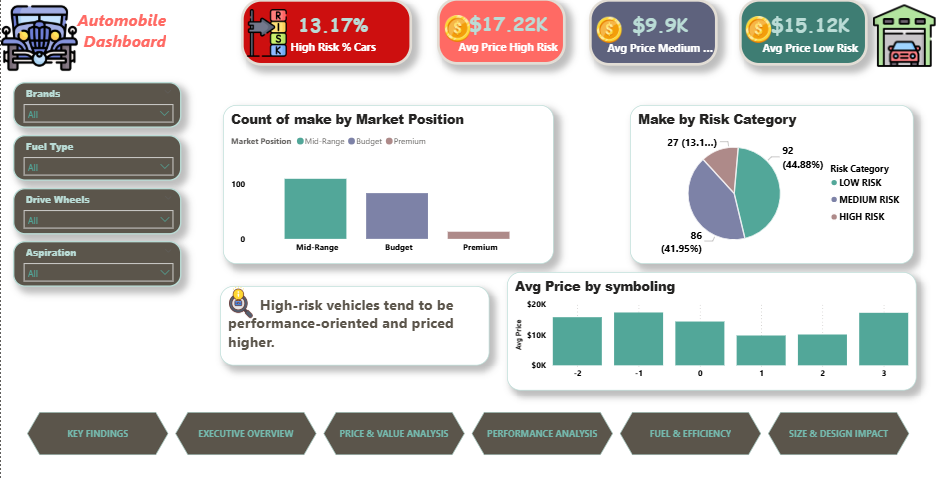

The dashboard page shown, as its layout file describes it:
{"tool":"powerbi","page":{"name":"RISK & MARKET POSITIONING","canvas":[1400,720],"ordinal":7},"visuals":[{"type":"card","fields":{"Values":["automobile_data.Avg Price High Risk"]},"box":[648,-0.8,191,99],"z":0},{"type":"image","box":[657.9,24,40,40],"z":1000},{"type":"slicer","fields":{"Values":["automobile_data.make"]},"box":[18.1,122.9,249.6,68],"z":2000},{"type":"slicer","fields":{"Values":["automobile_data.body-style"]},"box":[18.1,202.1,250,68],"z":3000},{"type":"slicer","fields":{"Values":["automobile_data.drive-wheels"]},"box":[18.1,280.9,250.2,68.8],"z":4000},{"type":"slicer","fields":{"Values":["automobile_data.aspiration"]},"box":[18.1,359,250.2,67.8],"z":5000},{"type":"textbox","box":[0,9.4,250.2,81.3],"z":6000},{"type":"image","box":[0,0,113.6,115.9],"z":7000},{"type":"image","box":[1295.1,3.4,93.5,102.6],"z":8000},{"type":"card","fields":{"Values":["automobile_data.Avg Price Medium Risk"]},"box":[873.2,-0.7,191,99.4],"z":9000},{"type":"image","box":[882.6,25.3,39,40.2],"z":10000},{"type":"card","fields":{"Values":["automobile_data.Avg Price Low Risk"]},"box":[1095.1,0.3,191,99],"z":11000},{"type":"image","box":[1105,25.1,40,40],"z":12000},{"type":"card","fields":{"Values":["automobile_data.High Risk % Cars"]},"box":[356.9,0,253.5,98.5],"z":13000},{"type":"image","box":[356.9,14.5,77.5,71],"z":14000},{"type":"columnChart","title":"Count of make by Market Position ","fields":{"Category":["automobile_data.Market Position"],"Y":["CountNonNull(automobile_data.make)"],"Series":["automobile_data.Market Position"]},"box":[329.4,156.6,490.9,235.8],"z":15000},{"type":"pieChart","title":"Make by Risk Category","fields":{"Category":["automobile_data.Risk Category"],"Y":["CountNonNull(automobile_data.make)"]},"box":[933.3,156.6,421.5,235.8],"z":16000},{"type":"columnChart","fields":{"Category":["automobile_data.symboling"],"Y":["automobile_data.Avg Price"]},"box":[751.3,404.7,607.7,175.6],"z":17000},{"type":"textbox","box":[324.8,425.7,399.8,117.7],"z":18000},{"type":"image","box":[329.9,425.7,53,47.9],"z":19000},{"type":"pageNavigator","box":[38.8,613.3,1315.9,64.7],"z":20000}]}

Visuals, with their boxes in screenshot pixels (x1, y1, x2, y2), scaled from the page's 1400x720 canvas onto the 941x480 screenshot:
card - automobile_data.Avg Price High Risk: {"x1": 436, "y1": 0, "x2": 564, "y2": 65}
image: {"x1": 442, "y1": 16, "x2": 469, "y2": 43}
slicer - automobile_data.make: {"x1": 12, "y1": 82, "x2": 180, "y2": 127}
slicer - automobile_data.body-style: {"x1": 12, "y1": 135, "x2": 180, "y2": 180}
slicer - automobile_data.drive-wheels: {"x1": 12, "y1": 187, "x2": 180, "y2": 233}
slicer - automobile_data.aspiration: {"x1": 12, "y1": 239, "x2": 180, "y2": 285}
textbox: {"x1": 0, "y1": 6, "x2": 168, "y2": 60}
image: {"x1": 0, "y1": 0, "x2": 76, "y2": 77}
image: {"x1": 870, "y1": 2, "x2": 933, "y2": 71}
card - automobile_data.Avg Price Medium Risk: {"x1": 587, "y1": 0, "x2": 715, "y2": 66}
image: {"x1": 593, "y1": 17, "x2": 619, "y2": 44}
card - automobile_data.Avg Price Low Risk: {"x1": 736, "y1": 0, "x2": 864, "y2": 66}
image: {"x1": 743, "y1": 17, "x2": 770, "y2": 43}
card - automobile_data.High Risk % Cars: {"x1": 240, "y1": 0, "x2": 410, "y2": 66}
image: {"x1": 240, "y1": 10, "x2": 292, "y2": 57}
"Count of make by Market Position " columnChart: {"x1": 221, "y1": 104, "x2": 551, "y2": 262}
"Make by Risk Category" pieChart: {"x1": 627, "y1": 104, "x2": 911, "y2": 262}
columnChart - automobile_data.symboling x automobile_data.Avg Price: {"x1": 505, "y1": 270, "x2": 913, "y2": 387}
textbox: {"x1": 218, "y1": 284, "x2": 487, "y2": 362}
image: {"x1": 222, "y1": 284, "x2": 257, "y2": 316}
pageNavigator: {"x1": 26, "y1": 409, "x2": 911, "y2": 452}
